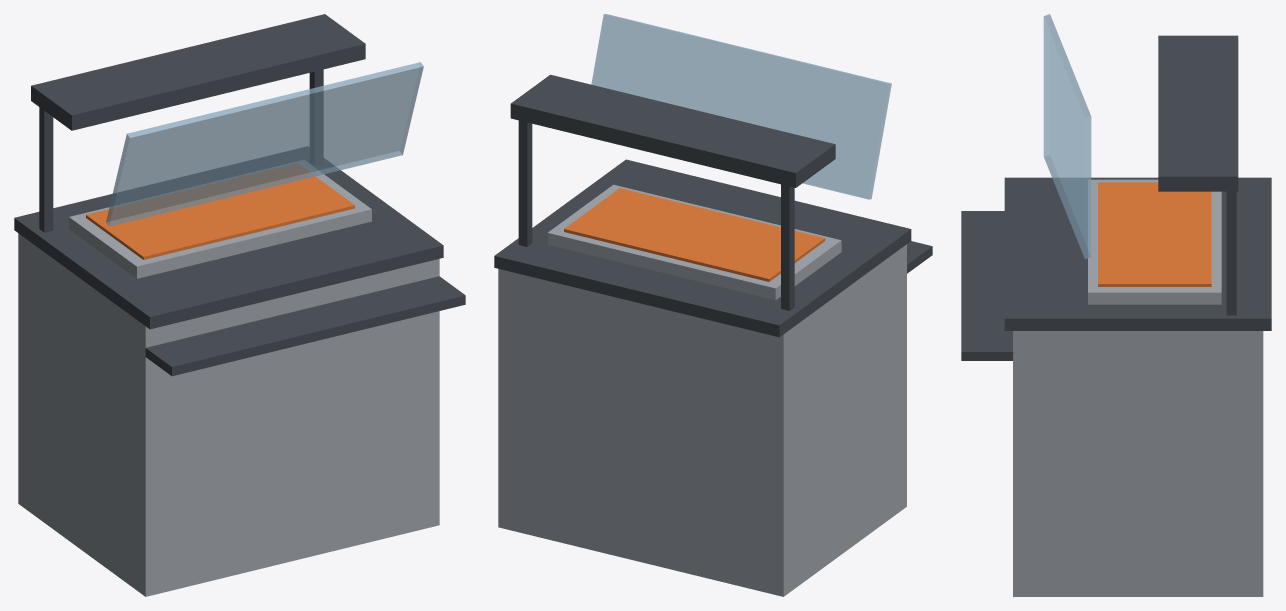
The model's file is serving_counter.glb.
3 views of the same model, side by side, from view 1: azimuth 30°, elevation 25°; view 2: azimuth 150°, elevation 25°; view 3: azimuth 270°, elevation 25° (orthographic). The views are drawn at different scales.
Visible parts, largest first — view 1: serving_counter_mesh; view 2: serving_counter_mesh; view 3: serving_counter_mesh.
Part boxes in pixels (bbox=[...]): serving_counter_mesh: bbox=[14, 14, 465, 596]; serving_counter_mesh: bbox=[494, 14, 932, 596]; serving_counter_mesh: bbox=[961, 14, 1271, 596].
Bounding box in the file's own units: 1 × 1.46 × 0.93.
